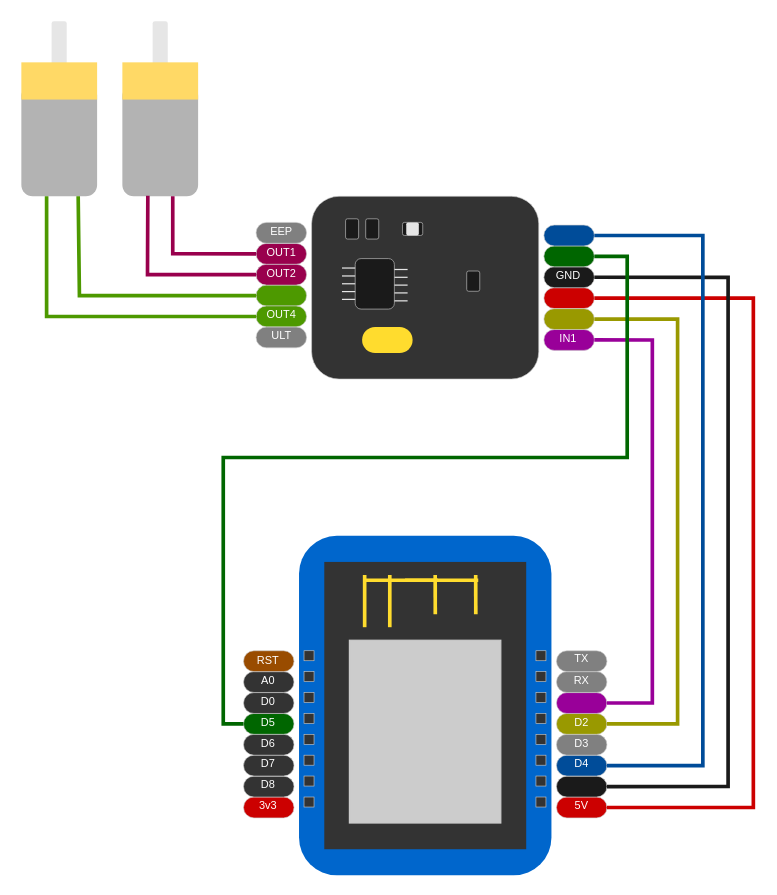
Image size: 777x895. Some labels were removed from this diagram. Here are the shapes that lost their labels. From the top down, the centre of each, then its label:
point 568,235: IN4
point 568,256: IN3
point 280,295: OUT3
point 568,297: VCC
point 568,318: IN2
point 581,702: D1
point 581,786: GND
